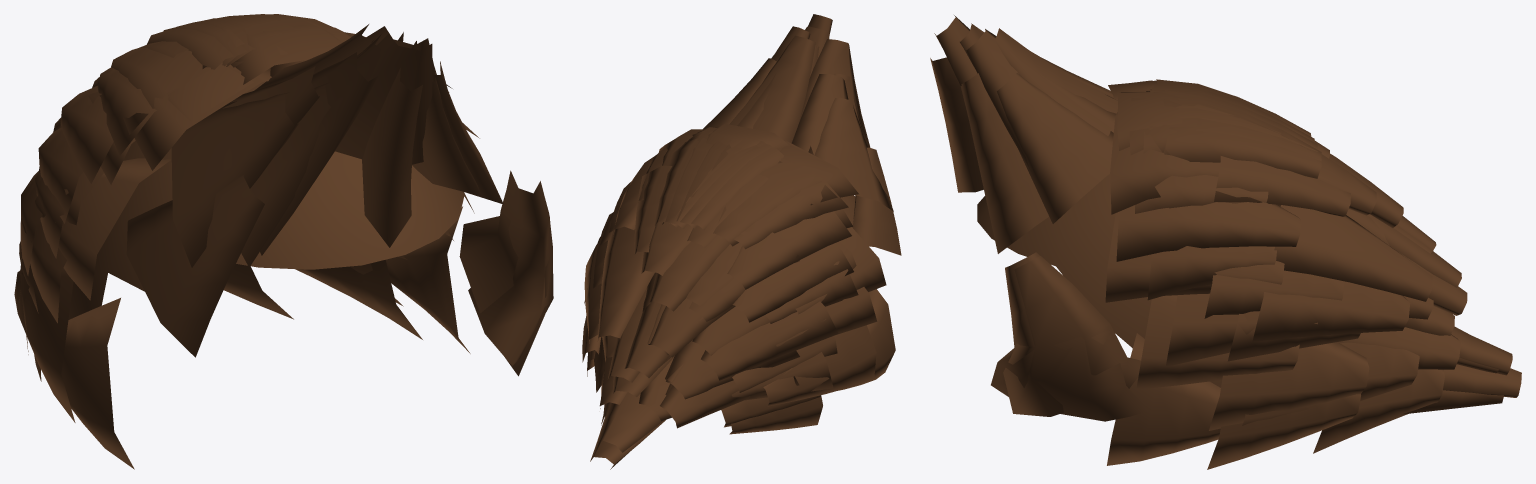
The model's file is quiff_m.glb.
The picture shows the model from 3 angles, left to right: view 1: azimuth 30°, elevation 25°; view 2: azimuth 150°, elevation 25°; view 3: azimuth 270°, elevation 25°; orthographic projection. The views are drawn at different scales.
Visible parts, largest first — view 1: quiff_m; view 2: quiff_m; view 3: quiff_m.
Part boxes in pixels (x1,y1,x2,y2): quiff_m: (14,14,553,469); quiff_m: (582,14,901,469); quiff_m: (930,15,1521,469).
Size of the model in its own units: 0.2229 by 0.2347 by 0.3215.
